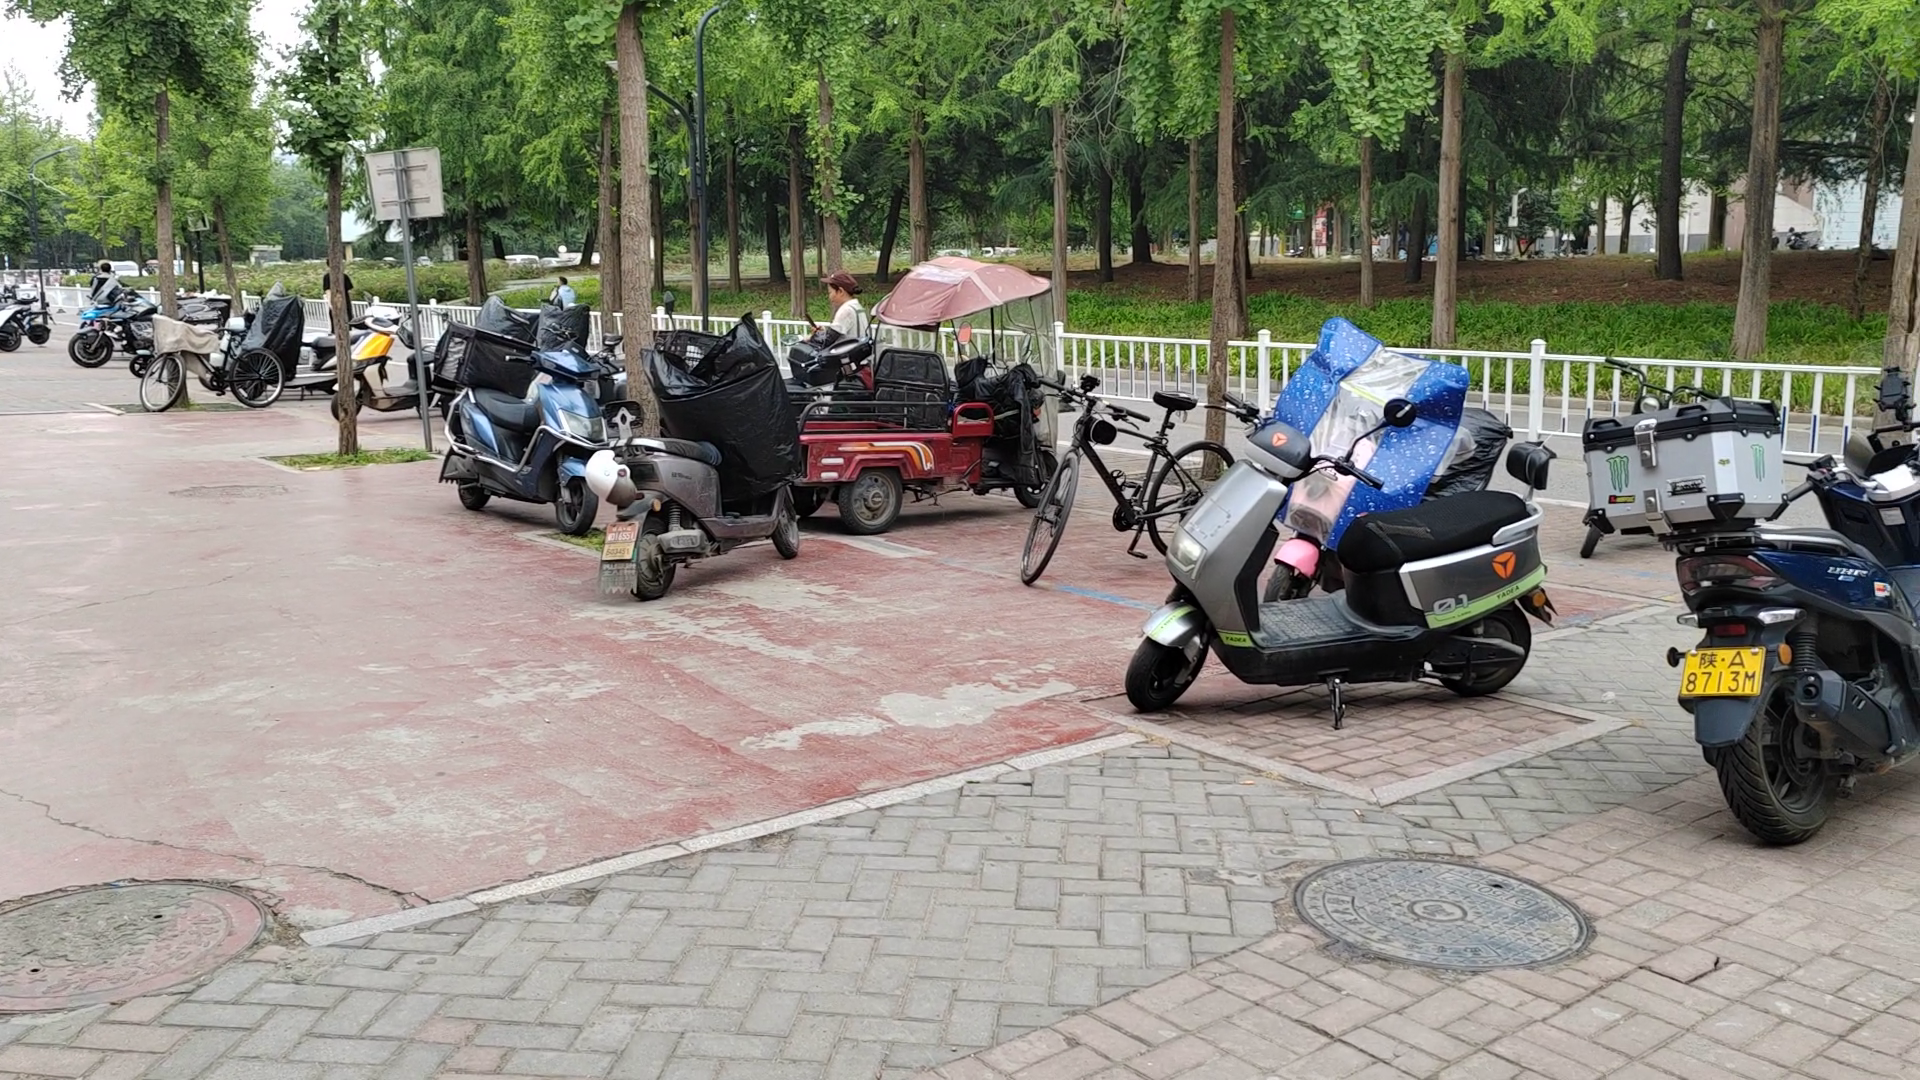others: (1124, 319, 1553, 725), (1589, 389, 1920, 856), (576, 334, 824, 599), (414, 313, 608, 543), (1021, 364, 1222, 578), (138, 293, 284, 407), (332, 289, 444, 431), (74, 286, 179, 357)
